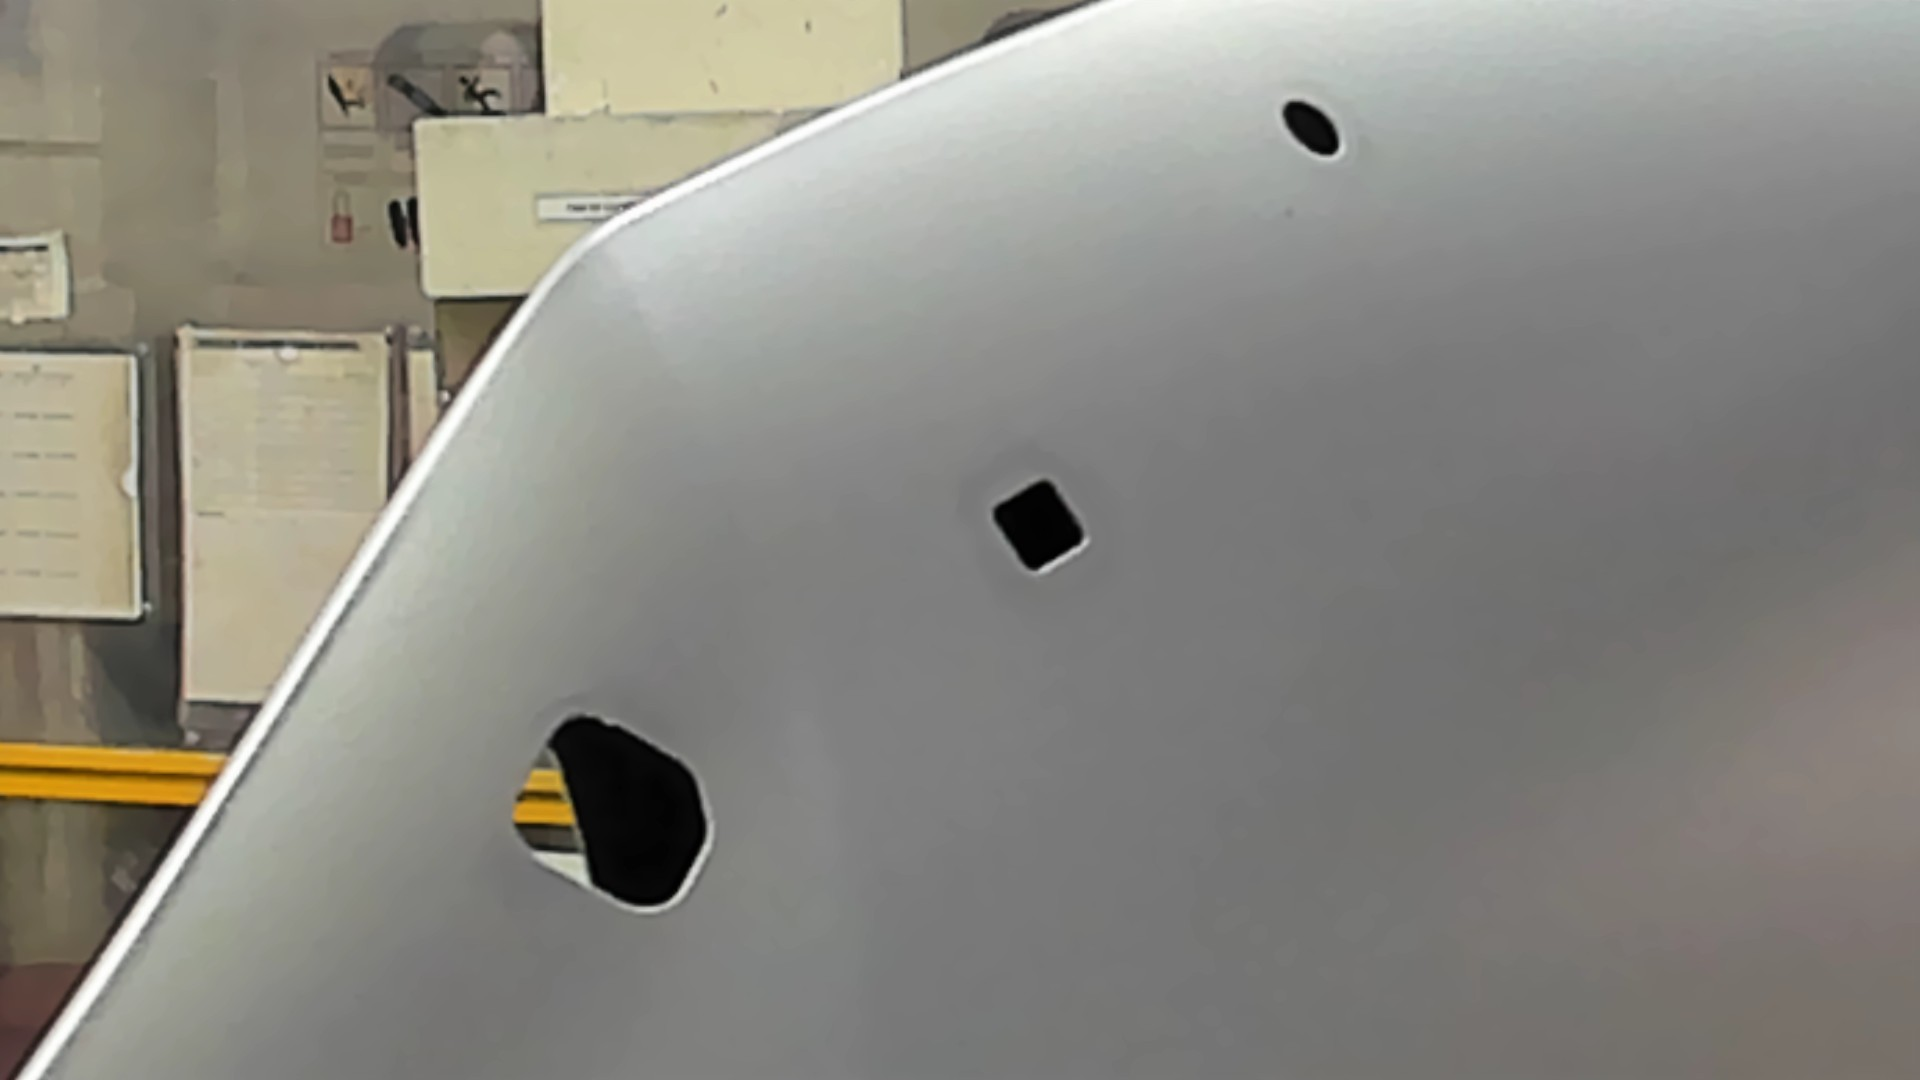chico: (1275, 92, 1346, 165)
grande: (501, 705, 719, 923)
mediano: (984, 472, 1095, 582)
